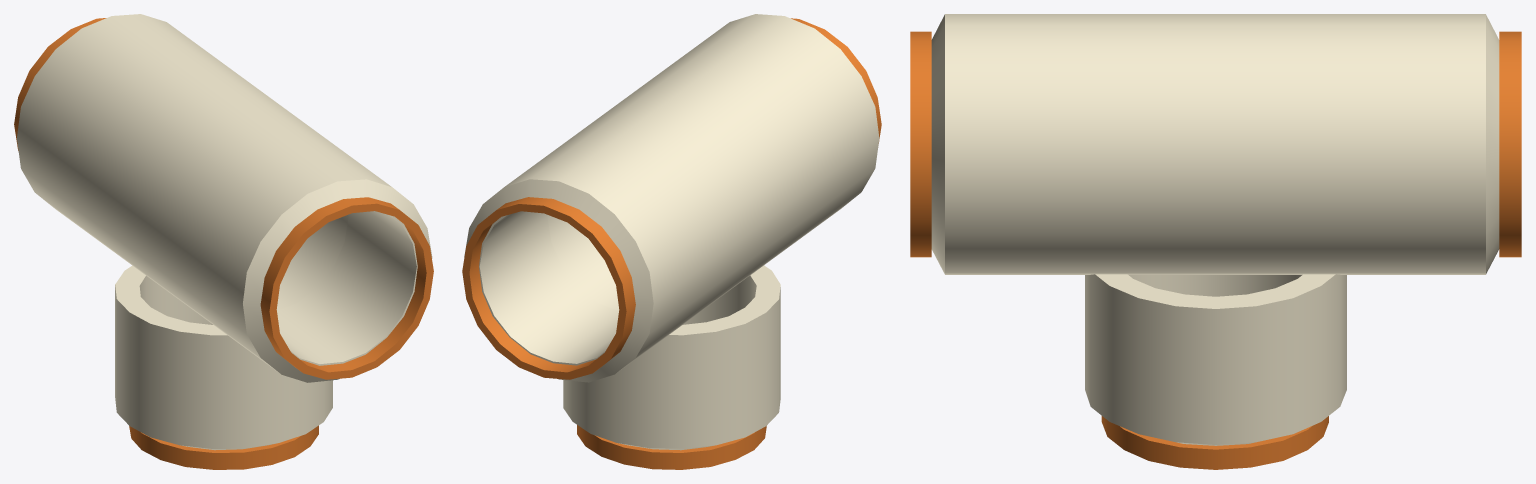
The model's file is pipes_supply__water_heater-garage_tankless+garage_tankless_noncondensing.glb.
3 renders of one model, left to right at view 1: azimuth 30°, elevation 25°; view 2: azimuth 150°, elevation 25°; view 3: azimuth 270°, elevation 25°, orthographic. The views are drawn at different scales.
Visible parts, largest first — view 1: tee_supply_recirc_return; view 2: tee_supply_recirc_return; view 3: tee_supply_recirc_return.
Boxes of the visible parts, left/top/right/bottom form: tee_supply_recirc_return: left=14, top=14, right=433, bottom=469; tee_supply_recirc_return: left=462, top=14, right=881, bottom=469; tee_supply_recirc_return: left=910, top=14, right=1521, bottom=469.
Size of the model in its own units: 0.0286 by 0.0477 by 0.0667.
